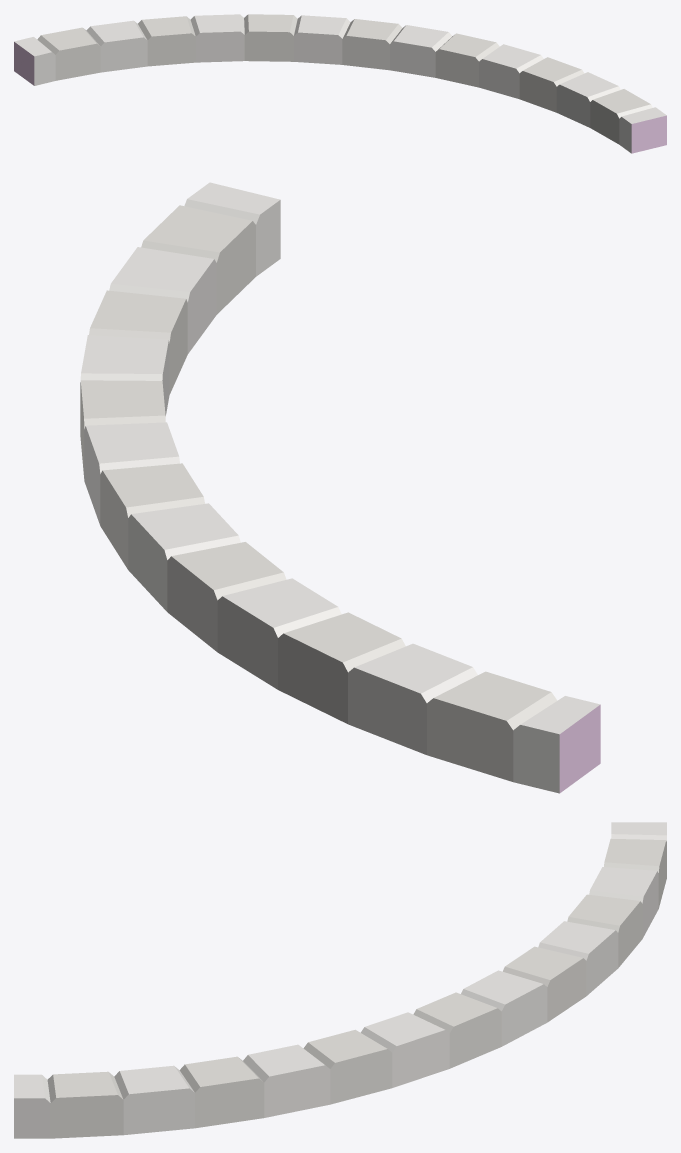
Rendered from Path_Edging_Stones_Curve_4x4.glb.
The picture shows the model from 3 angles, top to bottom: view 1: azimuth 30°, elevation 25°; view 2: azimuth 150°, elevation 25°; view 3: azimuth 270°, elevation 25°; orthographic projection. The views are drawn at different scales.
Visible parts, largest first — view 1: Path_Edging_Stones_Curve_4x4; view 2: Path_Edging_Stones_Curve_4x4; view 3: Path_Edging_Stones_Curve_4x4.
Boxes of the visible parts, x1,y1,x2,y2 form: Path_Edging_Stones_Curve_4x4: (14, 14, 666, 153); Path_Edging_Stones_Curve_4x4: (80, 182, 600, 793); Path_Edging_Stones_Curve_4x4: (14, 822, 666, 1138).
Size of the model in its own units: 366 by 25 by 366.
